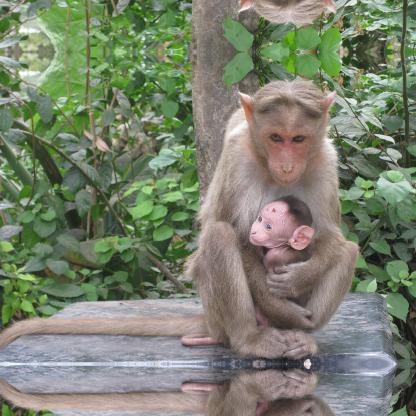Monkey: (0, 79, 360, 359), (182, 196, 314, 346), (181, 382, 315, 415)
